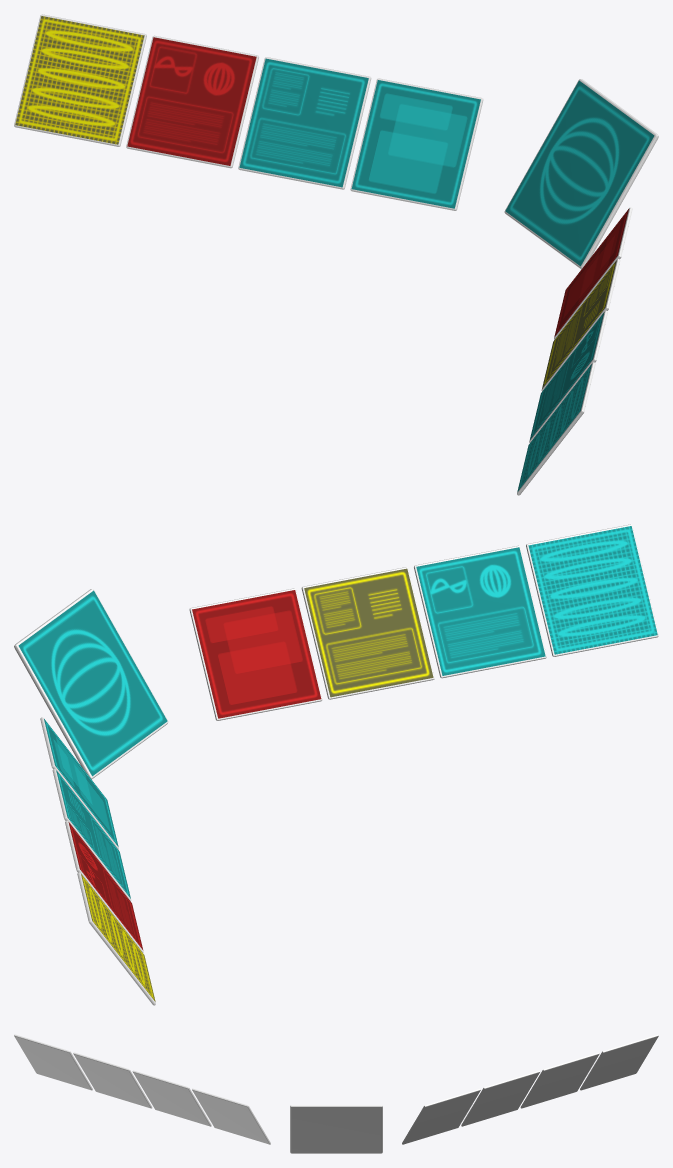
The model's file is Bridge_Screens_Mesh.fbx.
3 renders of one model, top to bottom at view 1: azimuth 30°, elevation 25°; view 2: azimuth 150°, elevation 25°; view 3: azimuth 270°, elevation 25°, orthographic. The views are drawn at different scales.
Visible parts, largest first — view 1: Bridge_Screens_Mesh; view 2: Bridge_Screens_Mesh; view 3: Bridge_Screens_Mesh.
Part boxes in pixels (bbox=[...]): Bridge_Screens_Mesh: bbox=[14, 14, 658, 495]; Bridge_Screens_Mesh: bbox=[14, 524, 658, 1005]; Bridge_Screens_Mesh: bbox=[14, 1034, 658, 1153].
Bounding box in the file's own units: 1063 × 340 × 2811.
